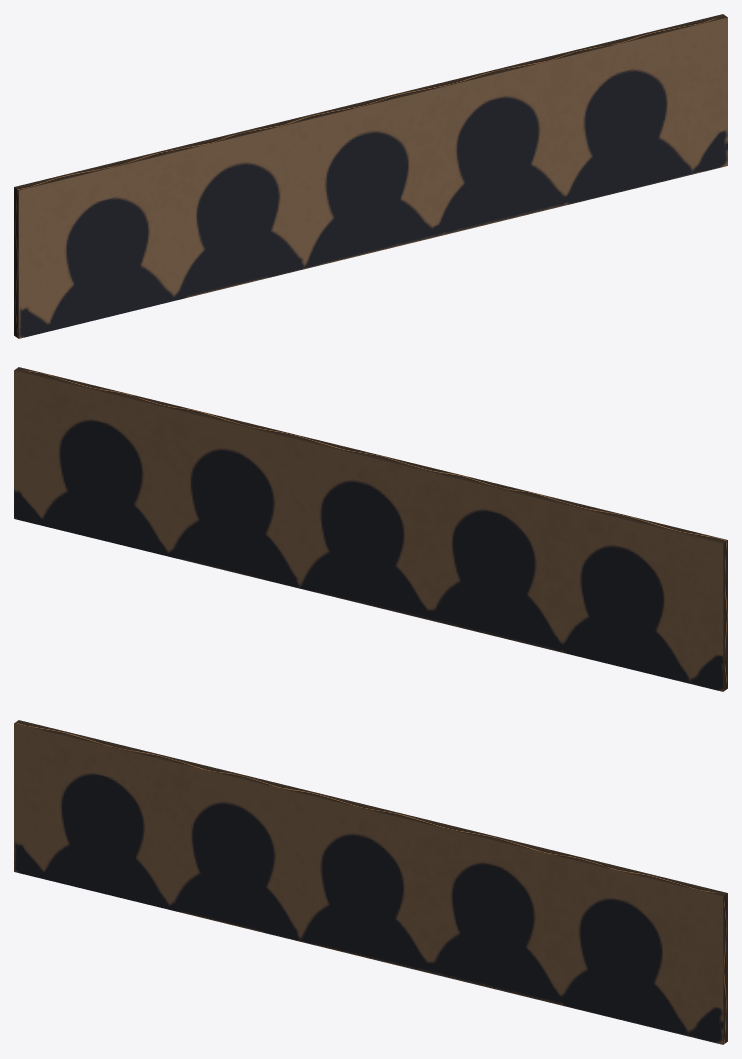
File: Audience.fbx
3 views of the same model, one above another, from view 1: azimuth 30°, elevation 25°; view 2: azimuth 150°, elevation 25°; view 3: azimuth 330°, elevation 25° (orthographic).
Parts seen in each view (by area): view 1: pCube2; view 2: pCube2; view 3: pCube2.
Boxes of the visible parts, x1,y1,x2,y2 form: pCube2: (14, 14, 727, 338); pCube2: (14, 367, 727, 691); pCube2: (14, 720, 727, 1044).
Size of the model in its own units: 10 by 2 by 0.116.
